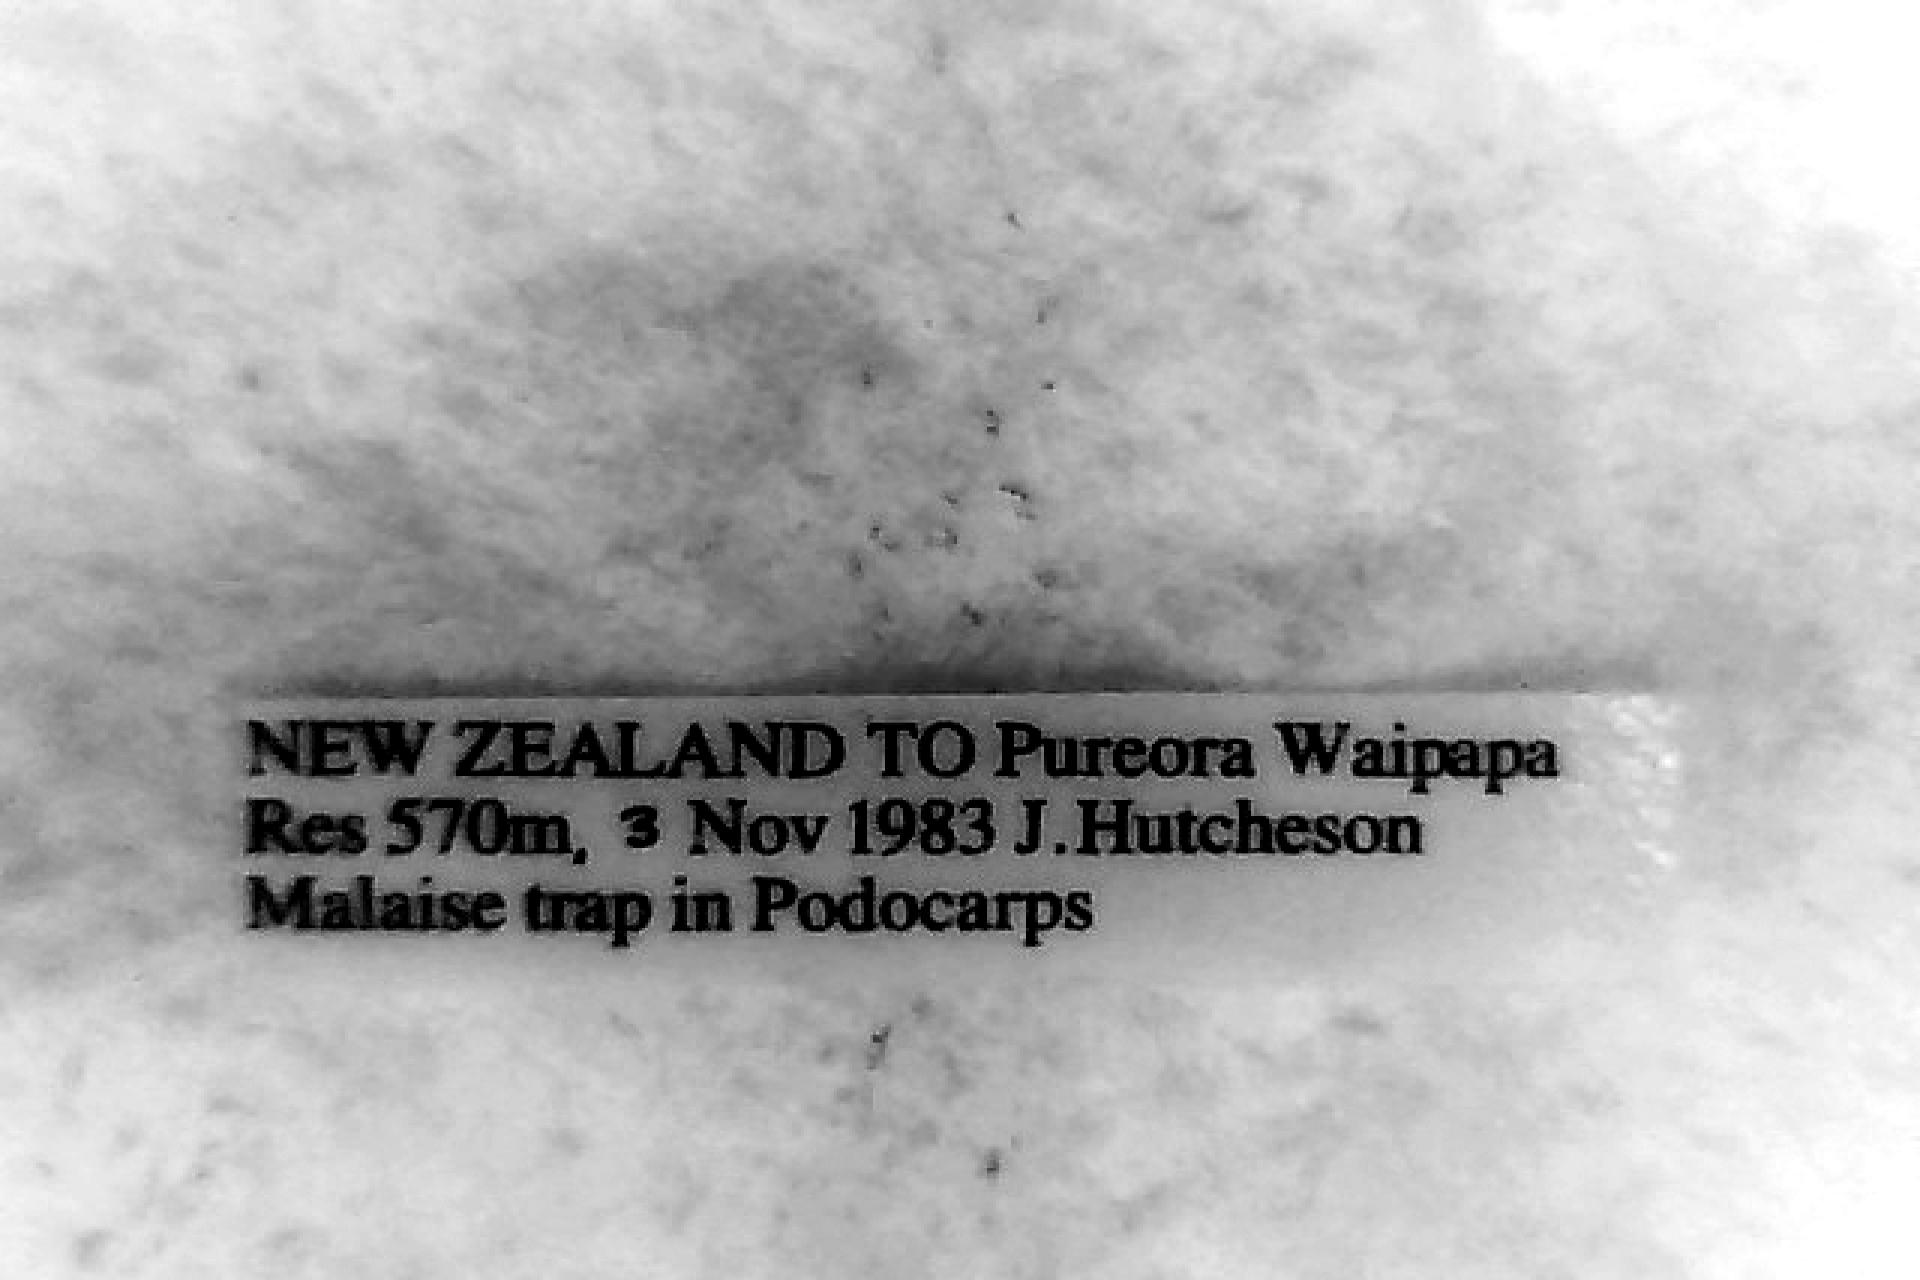typed_label: (240, 693, 1680, 983)
